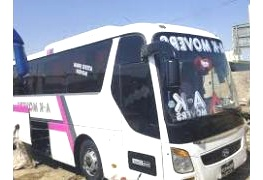bus: (13, 23, 249, 179)
